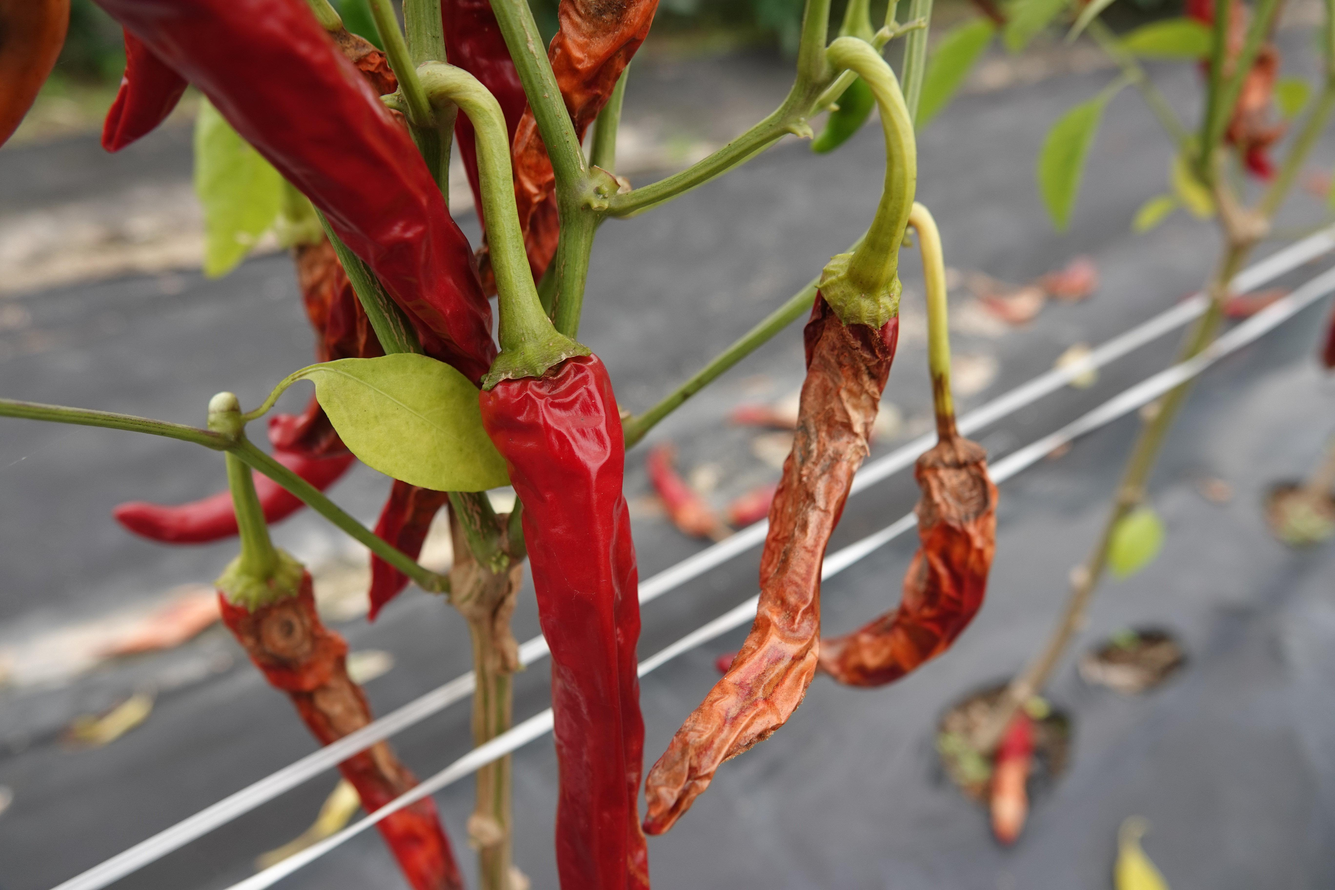Buah Cabai Sehat: (123, 0, 500, 365), (483, 342, 660, 890)
Busuk Buah Antraknosa: (637, 245, 912, 843), (210, 547, 475, 890), (817, 440, 1005, 696)
